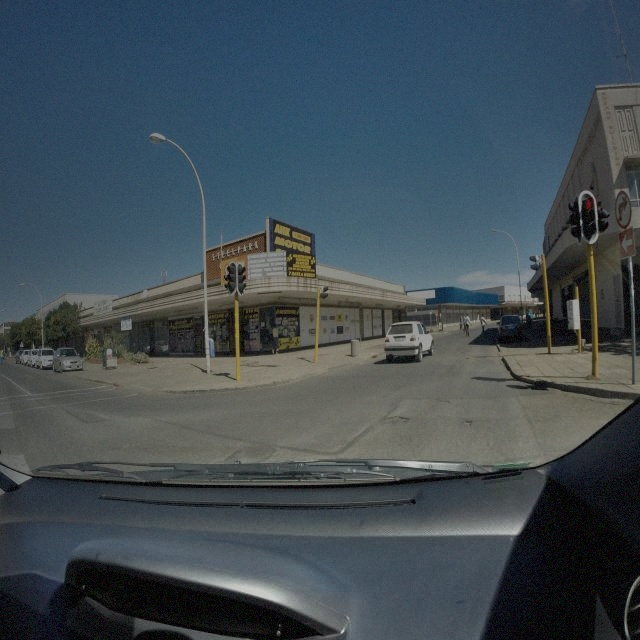pothole: (385, 414, 409, 427), (462, 417, 473, 428)
